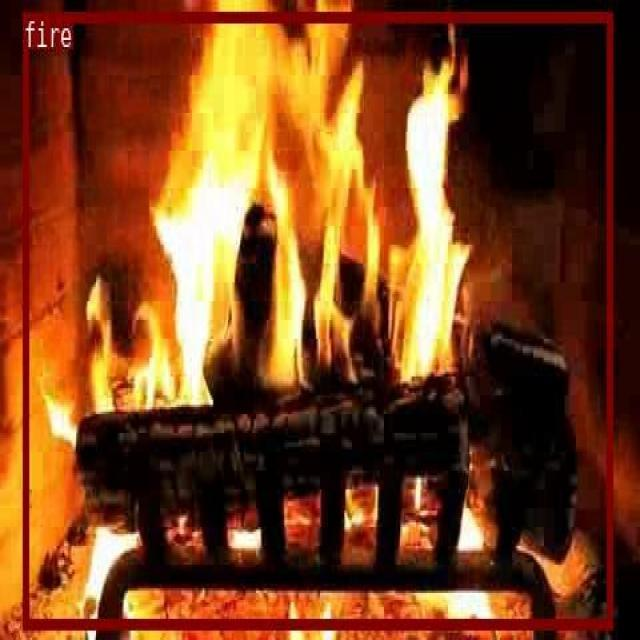fire: (22, 10, 612, 627)
